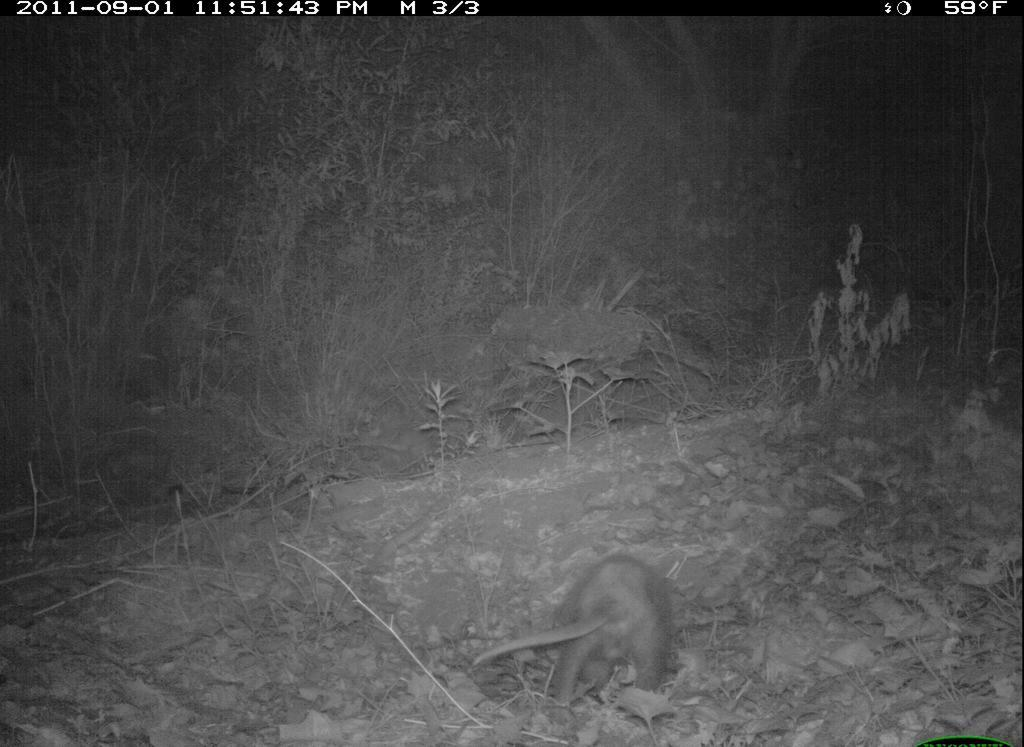opossum: (482, 546, 698, 715)
